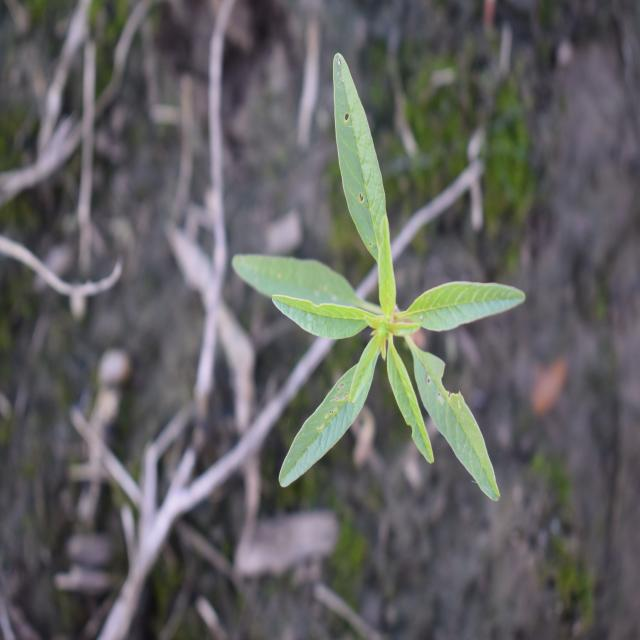Waterhemp: (230, 50, 528, 505)
